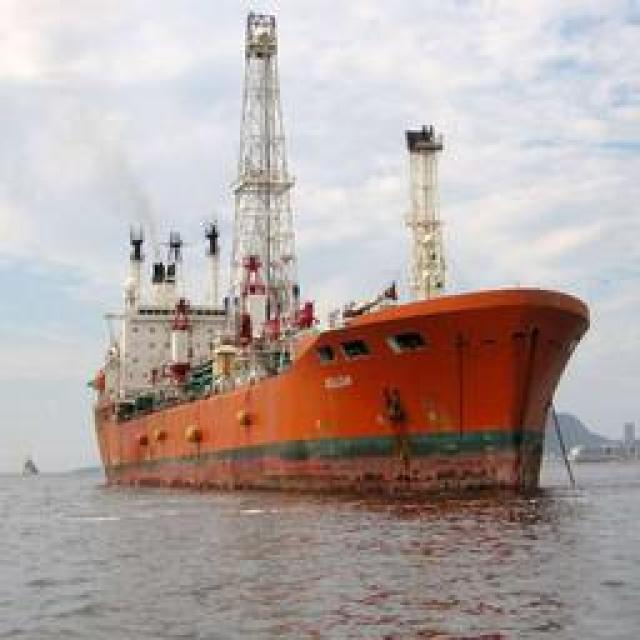CIV_Ship: (94, 271, 586, 499)
